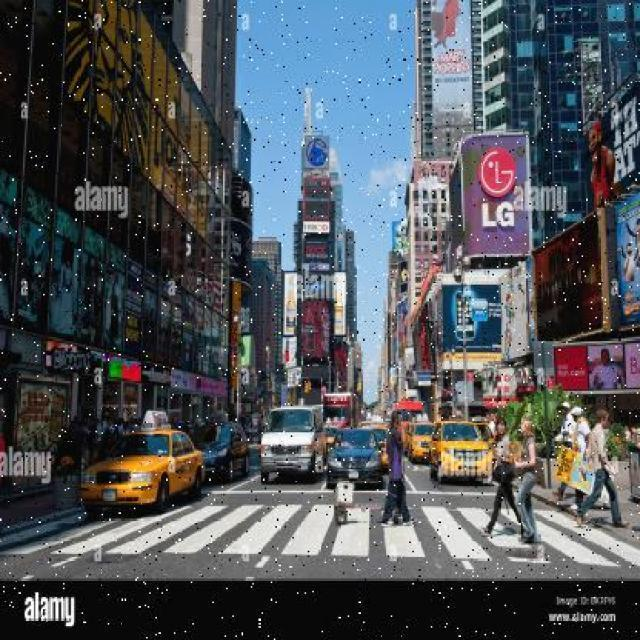crosswalk: (0, 501, 640, 567)
